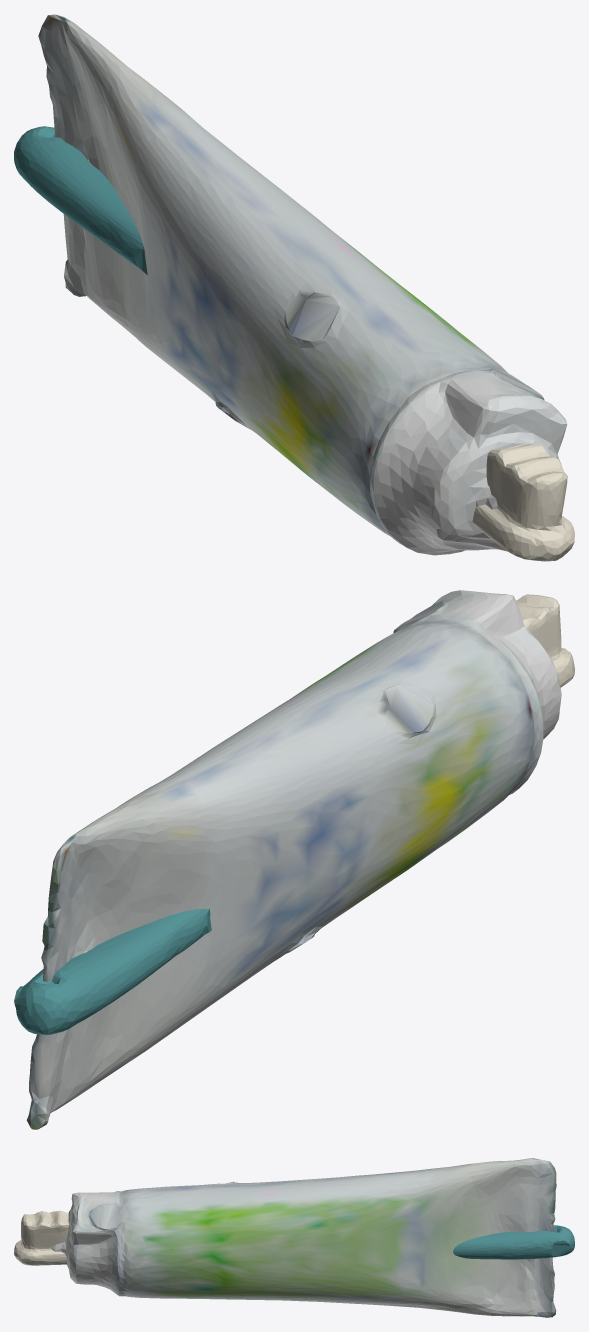
3 renders of one model, top to bottom at view 1: azimuth 30°, elevation 25°; view 2: azimuth 150°, elevation 25°; view 3: azimuth 270°, elevation 25°, orthographic. The views are drawn at different scales.
Parts seen in each view (by area): view 1: world; view 2: world; view 3: world.
Boxes of the visible parts, <box> form: world: <box>14,14,574,561</box>; world: <box>14,590,574,1129</box>; world: <box>14,1158,574,1317</box>.
Size of the model in its own units: 0.0343 by 0.0548 by 0.1816.
